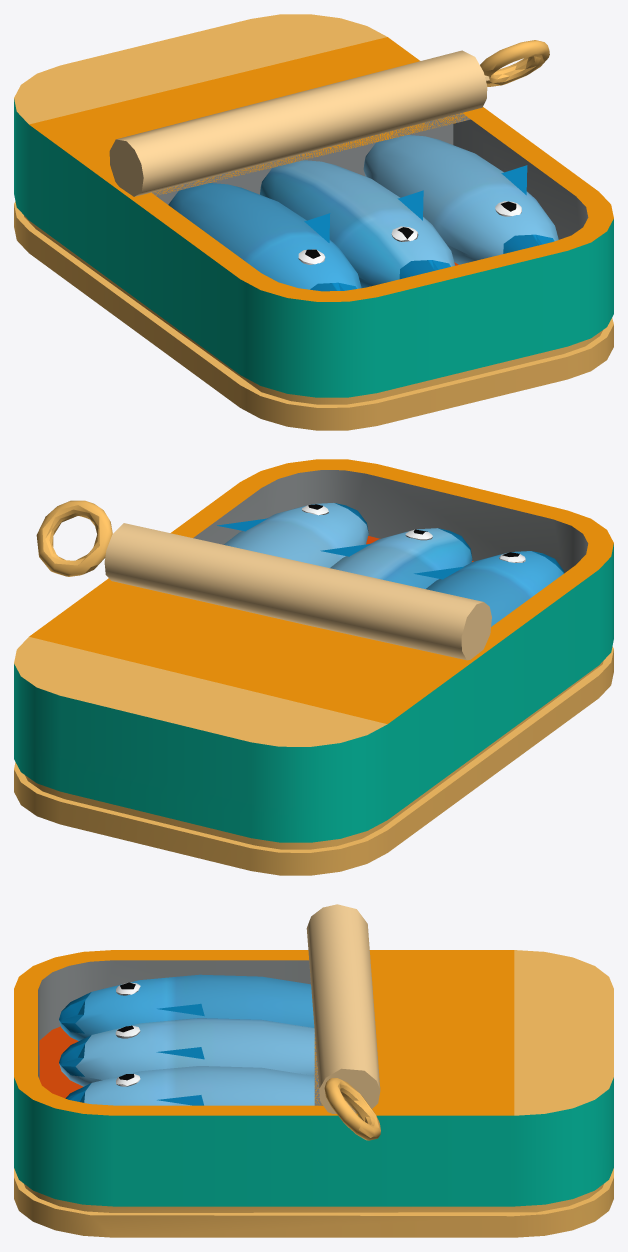
Rendered from LataSardinha.glb.
3 views of the same model, one above another, from view 1: azimuth 30°, elevation 25°; view 2: azimuth 150°, elevation 25°; view 3: azimuth 270°, elevation 25° (orthographic). The views are drawn at different scales.
Parts seen in each view (by area): view 1: LataSardinha; view 2: LataSardinha; view 3: LataSardinha.
Part boxes in pixels (x1,y1,x2,y2): LataSardinha: (14, 14, 613, 430); LataSardinha: (14, 459, 613, 875); LataSardinha: (14, 904, 613, 1237).
Size of the model in its own units: 0.7908 by 0.3208 by 1.
1 material, 1 textured.
